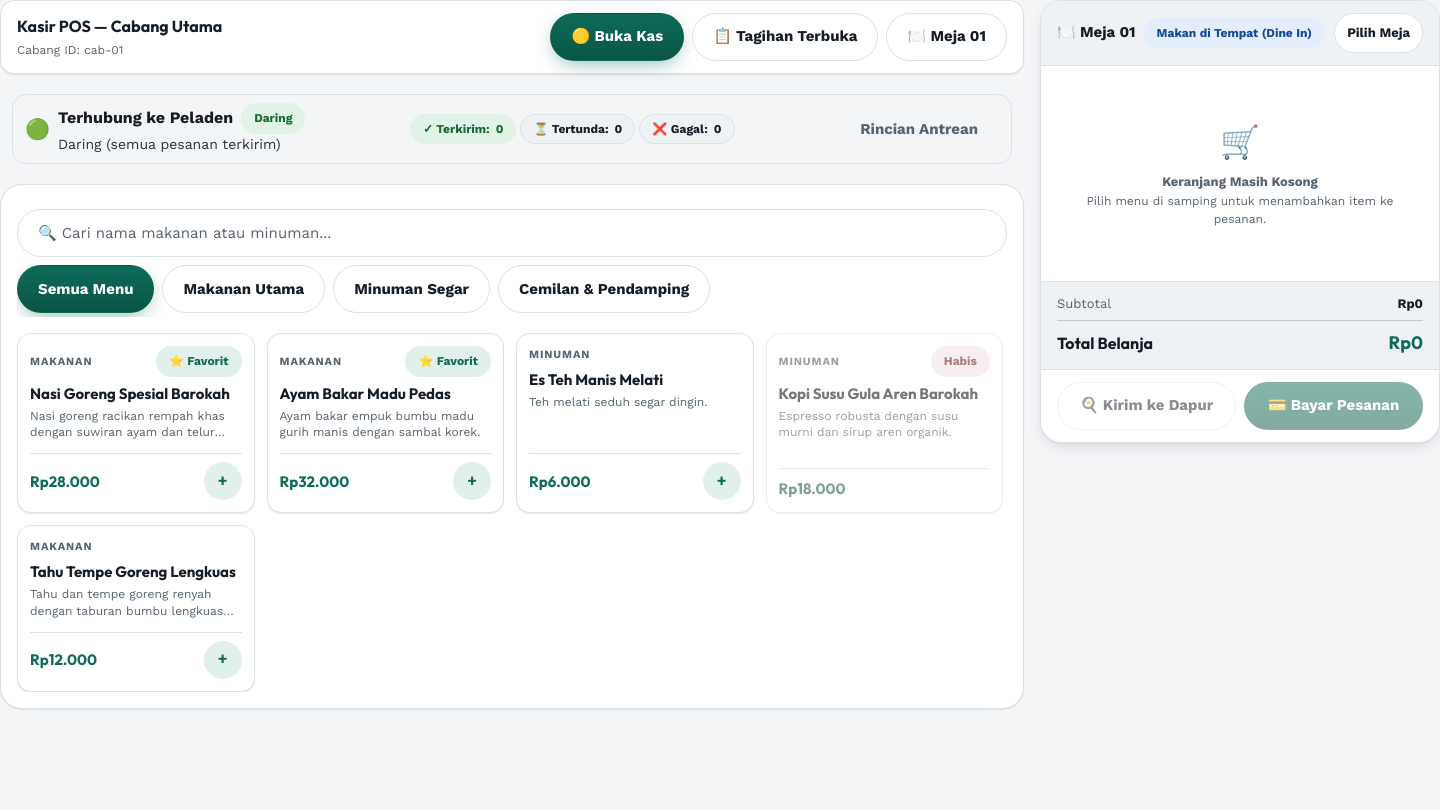
Test: LayarKasir ↔ VoucherKasir (T8-09, alur cek & pakai voucher) › voucher yang berhasil dipakai memotong tagihan di layar kasir
Click the text "Tahu Tempe Goreng Lengkuas": (136, 573) [30,563,242,582]
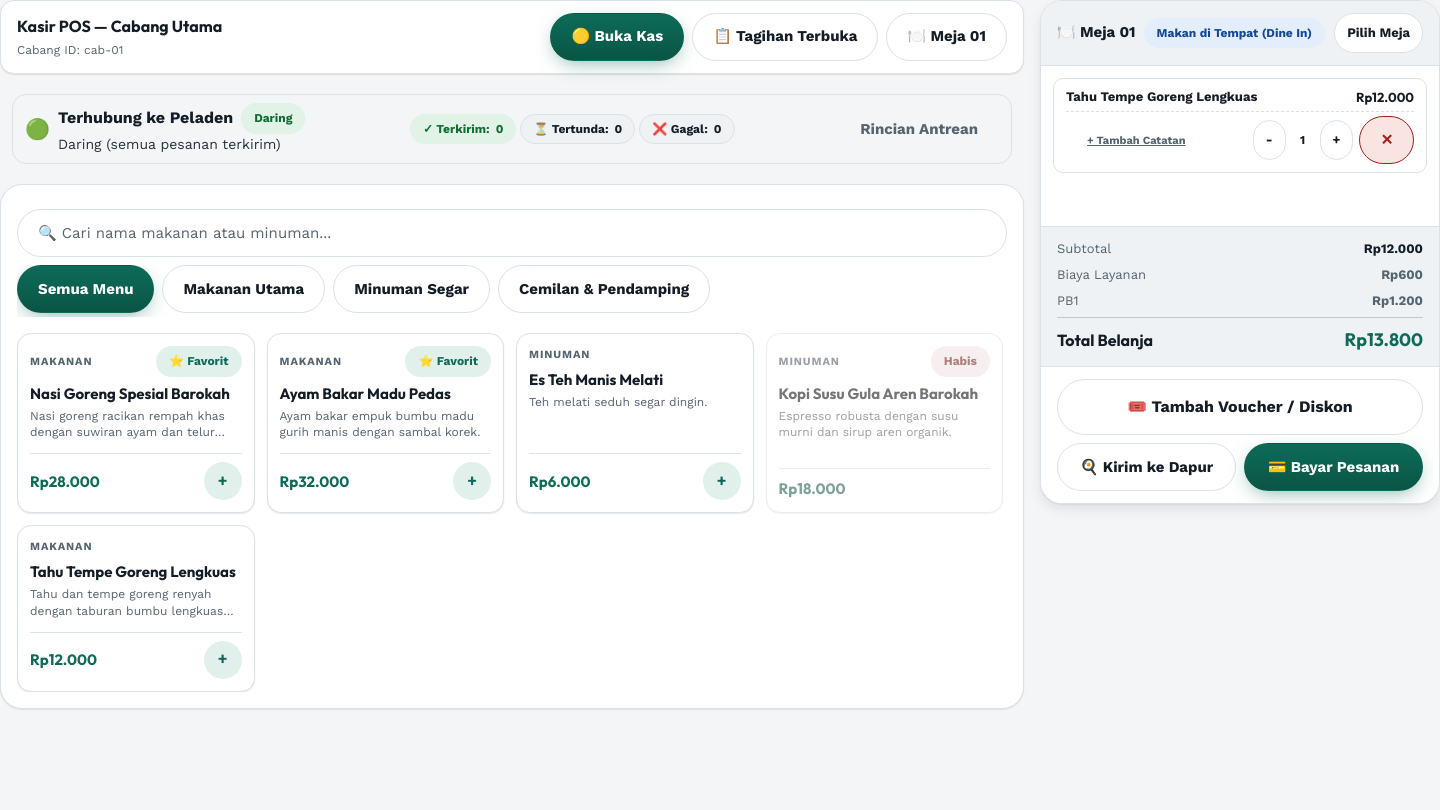
Click the button "🎟️ Tambah Voucher / Diskon": (1240, 407) [1057,379,1423,435]
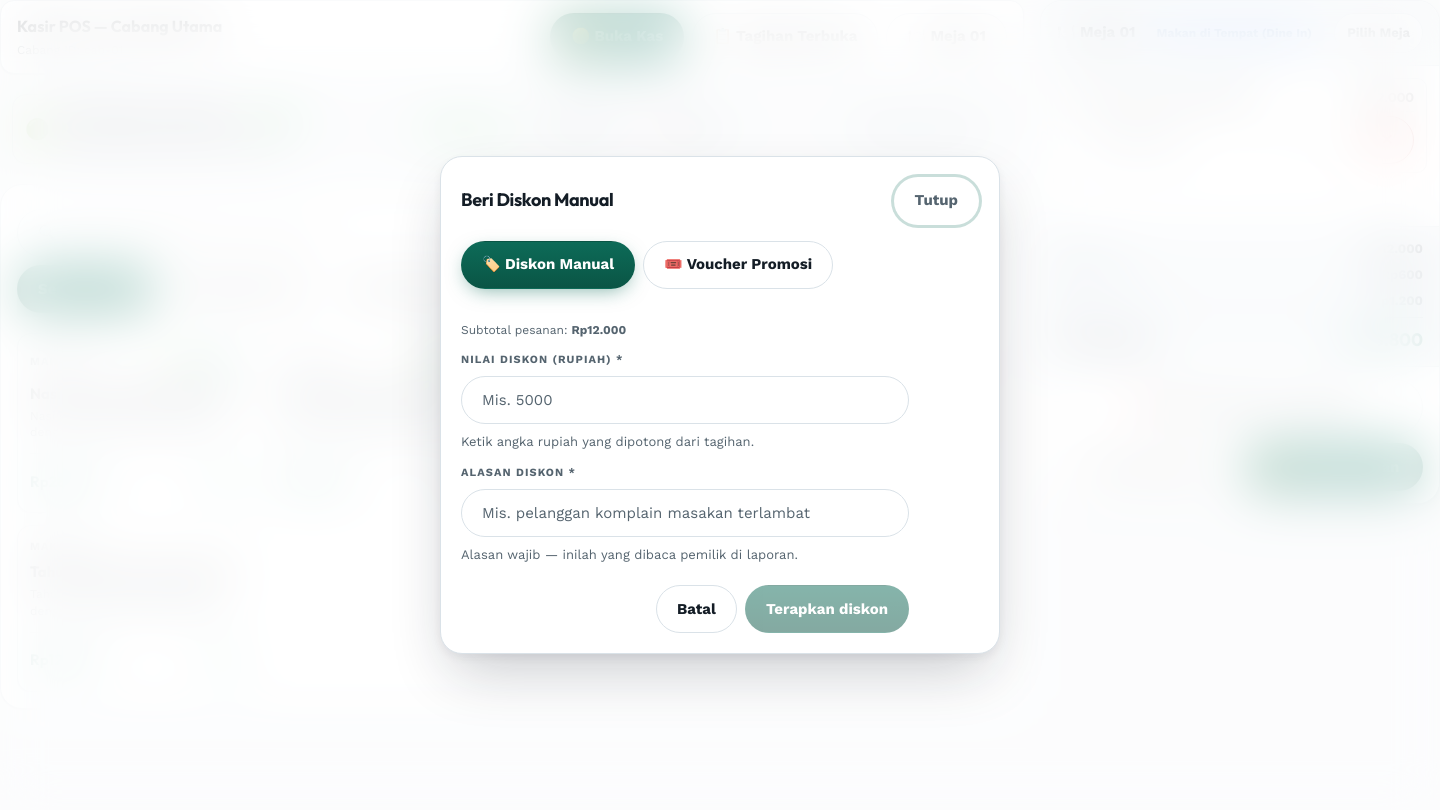
Click the button with aria-label "Tab Voucher Promo": (738, 264) [643,240,833,288]
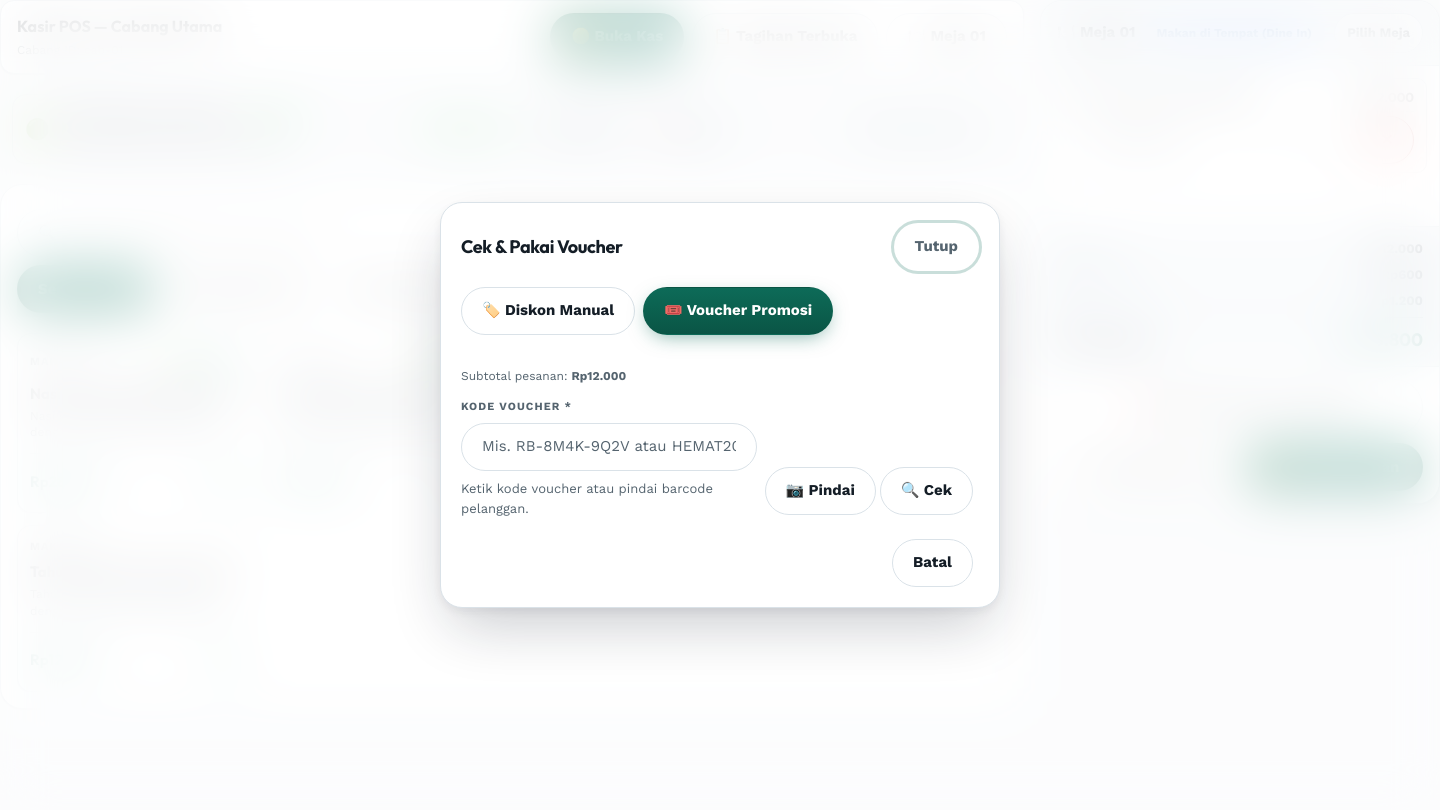
In the field labelled "Kode voucher *": (609, 447) [461,423,757,471], type "VC-HEMAT20"
Click the button with aria-label "Cek voucher": (926, 491) [880,467,973,515]
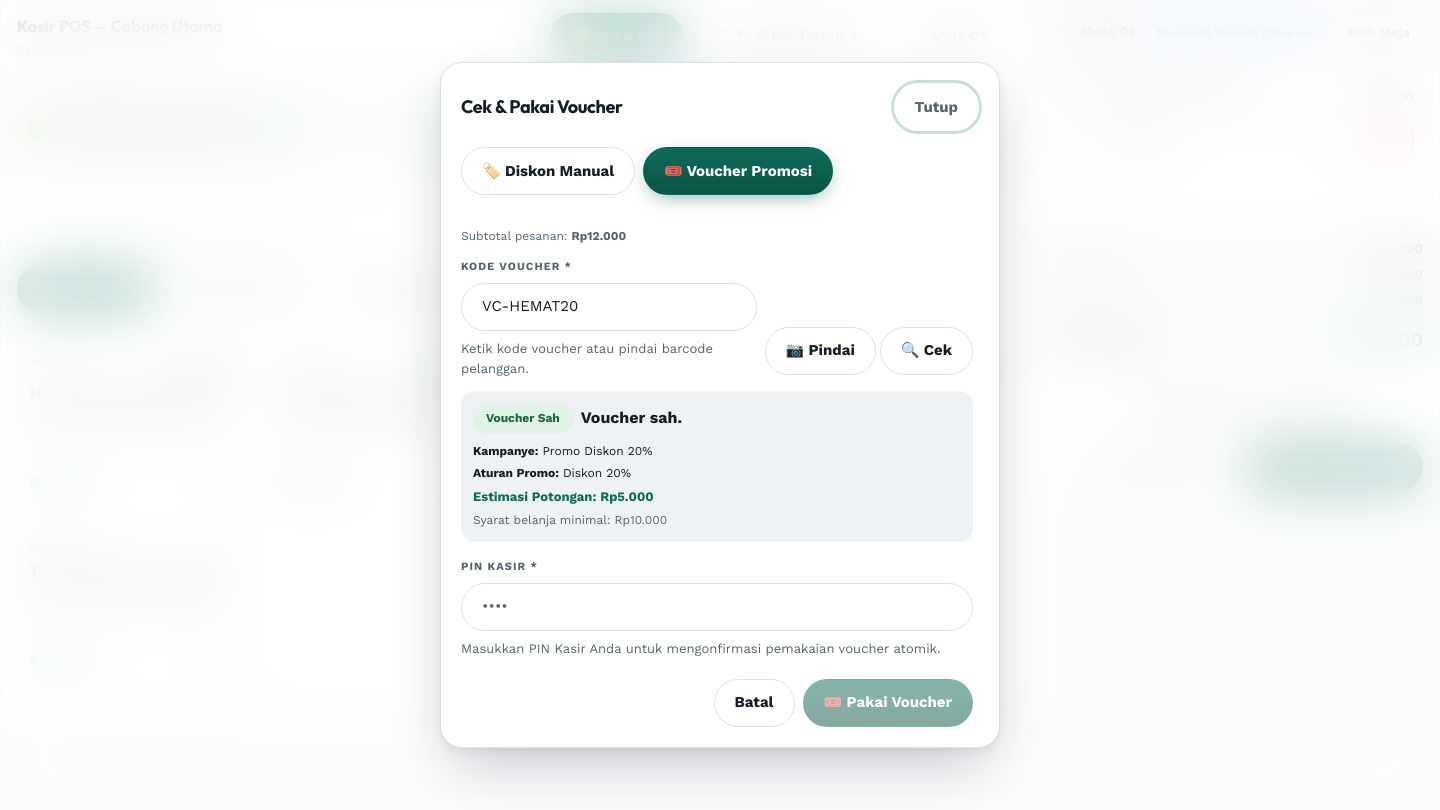
Expected: the element with test id "voucher-hasil-cek-sukses" is shown, [461,391,973,542]
In the password field labelled "PIN Kasir *": (717, 607) [461,583,973,631], type "1234"
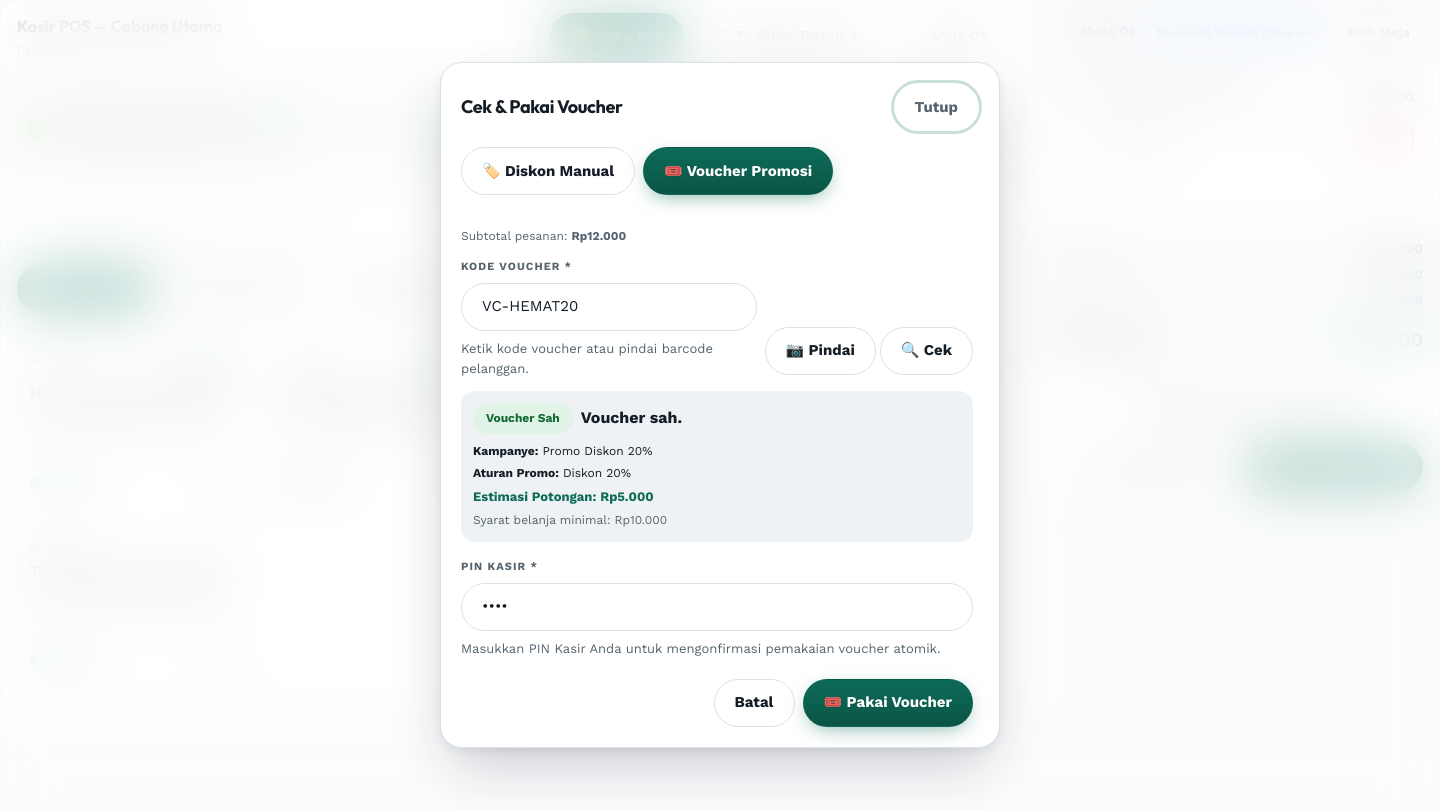
Click the button "🎟️ Pakai Voucher": (888, 703) [802,679,973,727]
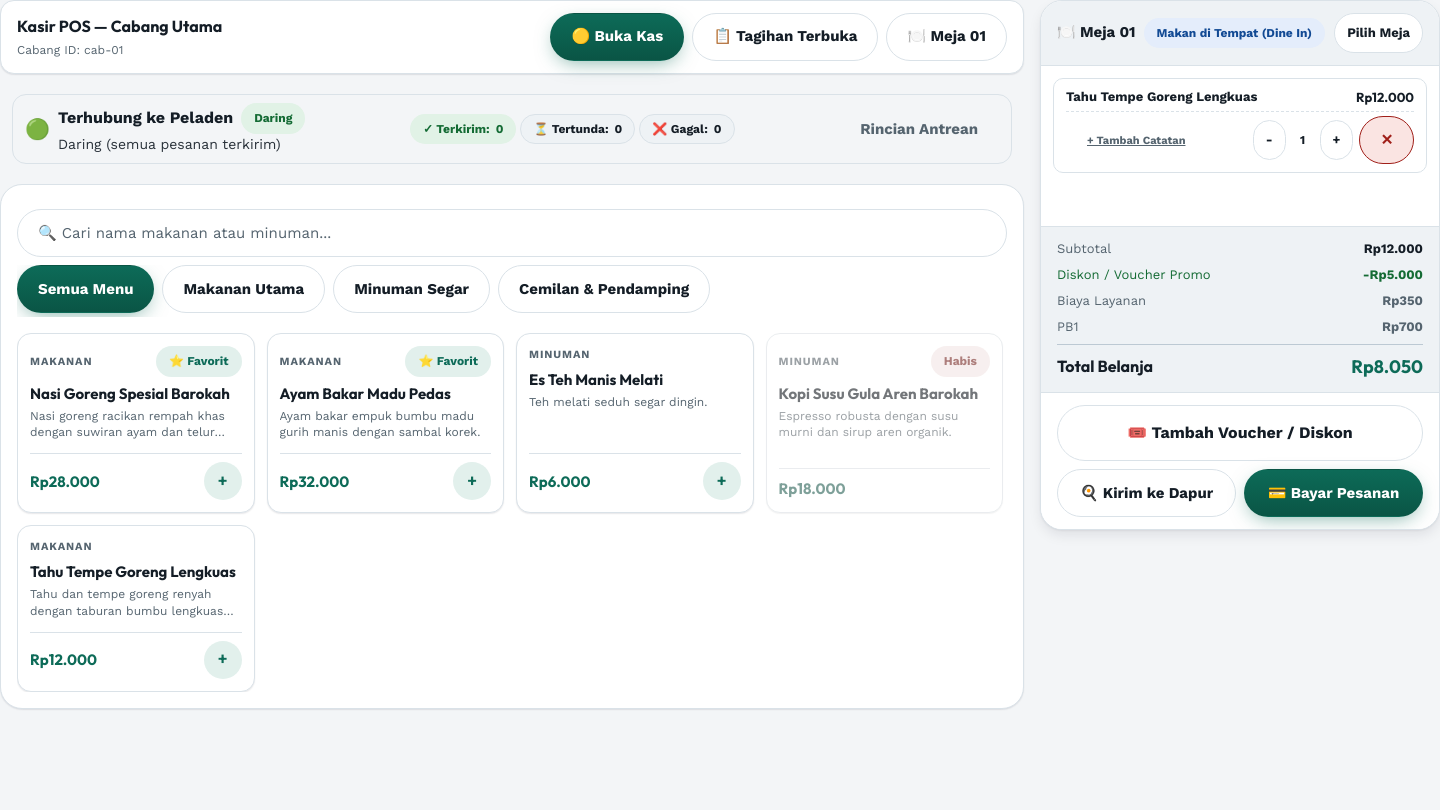
Expected: the text "Diskon / Voucher Promo" is shown, [1057,265,1211,285]
